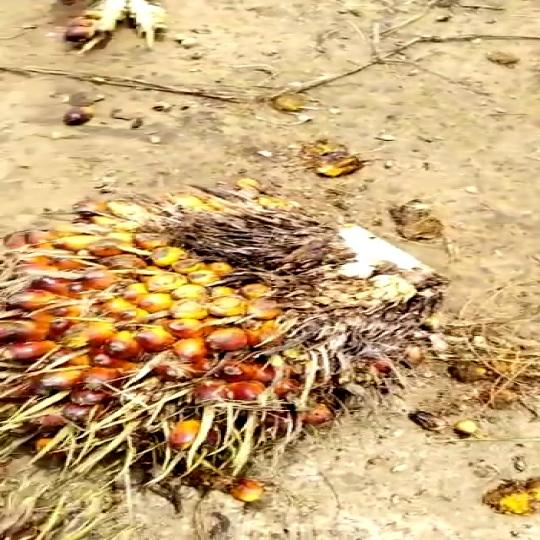masak: (0, 184, 455, 488)
